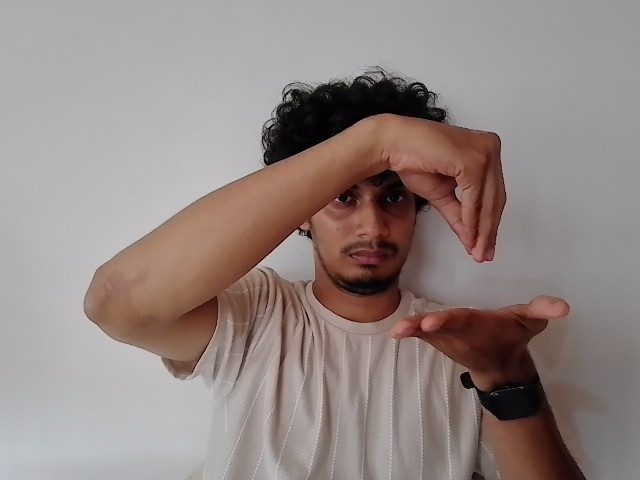learn: (364, 114, 575, 357)
